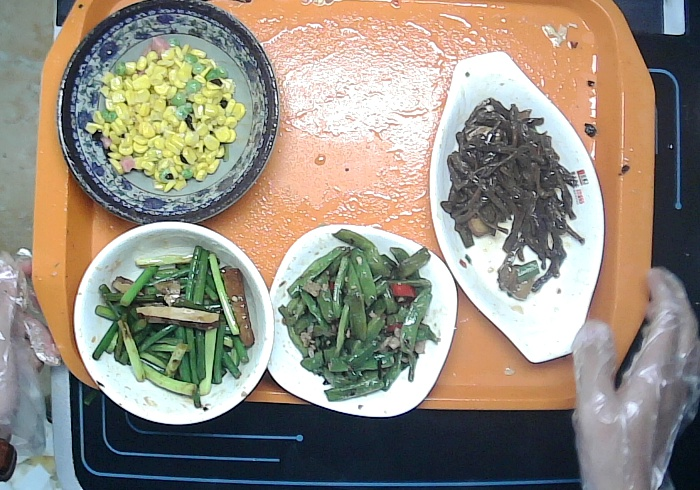ZNLD-Qing_Hua_Wan: (56, 2, 281, 235)
ZNLD-Si_Fang_Wan: (265, 224, 456, 423)
ZNLD-Tang_Wan: (72, 223, 272, 431)
ZNLD-Yu_Pan: (428, 47, 607, 365)
